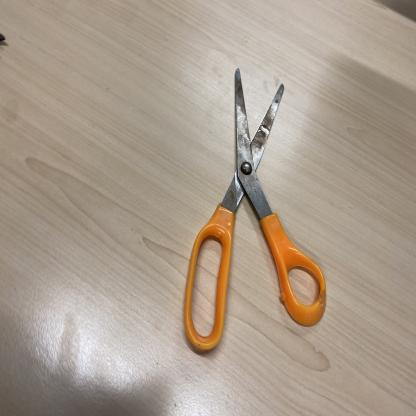scissors: (183, 69, 328, 353)
